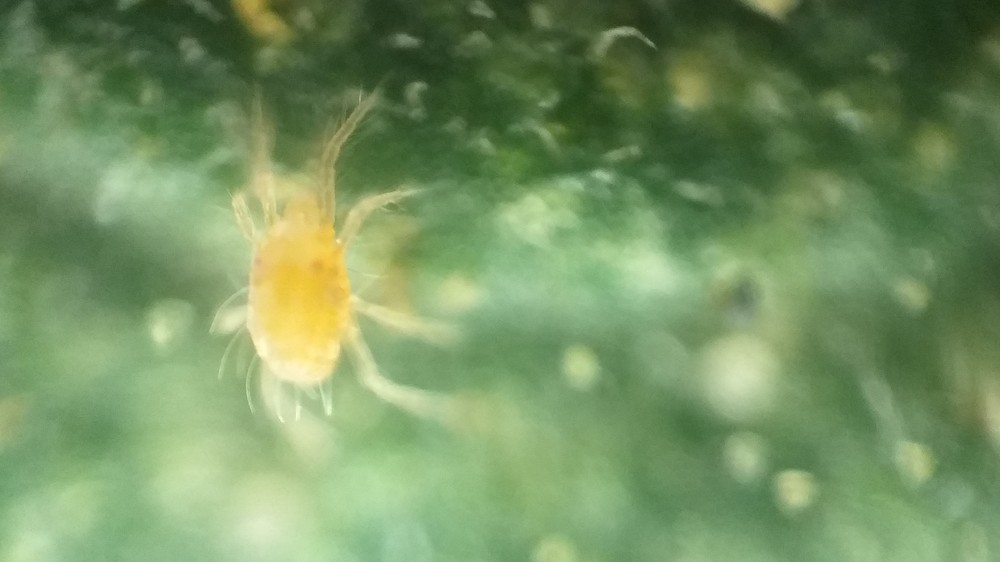Aracnido Rojo: (192, 82, 482, 445)
